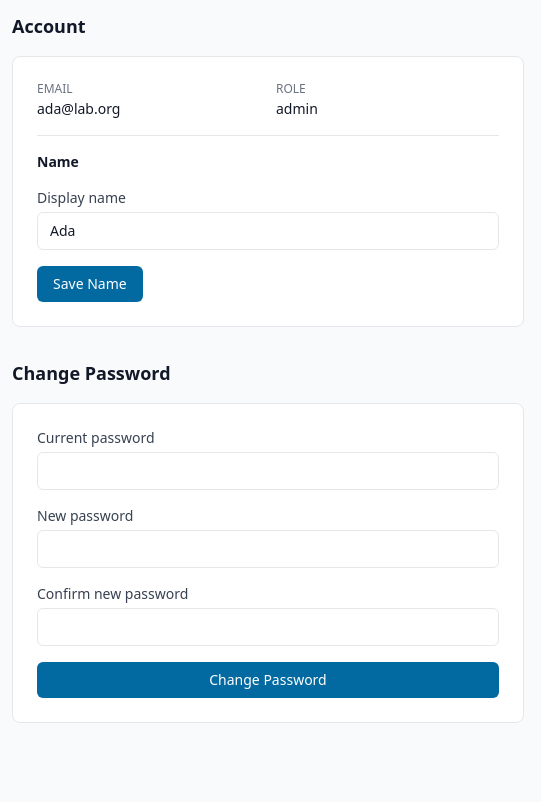
Test case: saves a new name, refreshes the token, and announces the update
Replace the text in the field labelled "Display name" with "Ada Lovelace" at (268, 231), box [37,212,499,250]
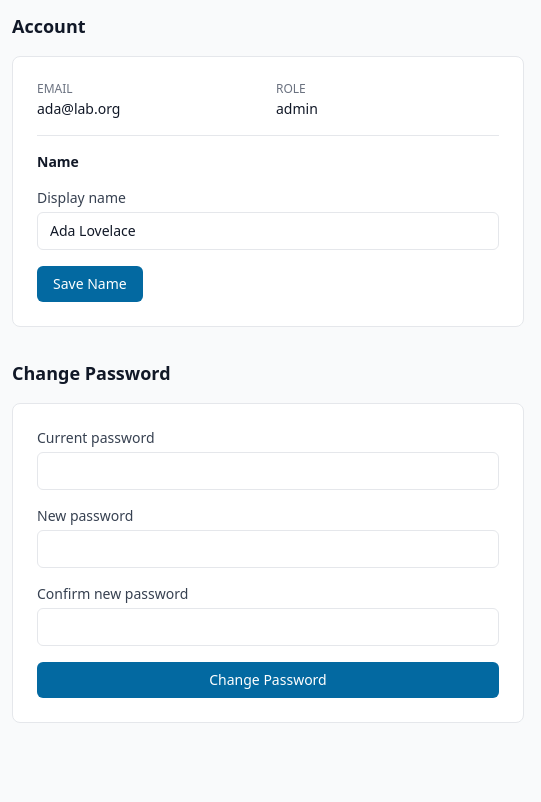
Click the button "Save Name" at (90, 284), box [37,266,143,302]
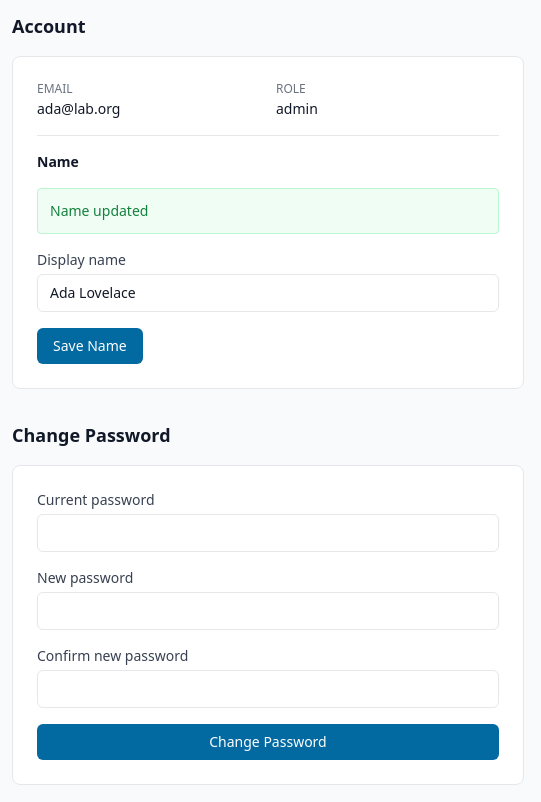
Now the text "Name updated" is shown, box [37,188,499,234]
